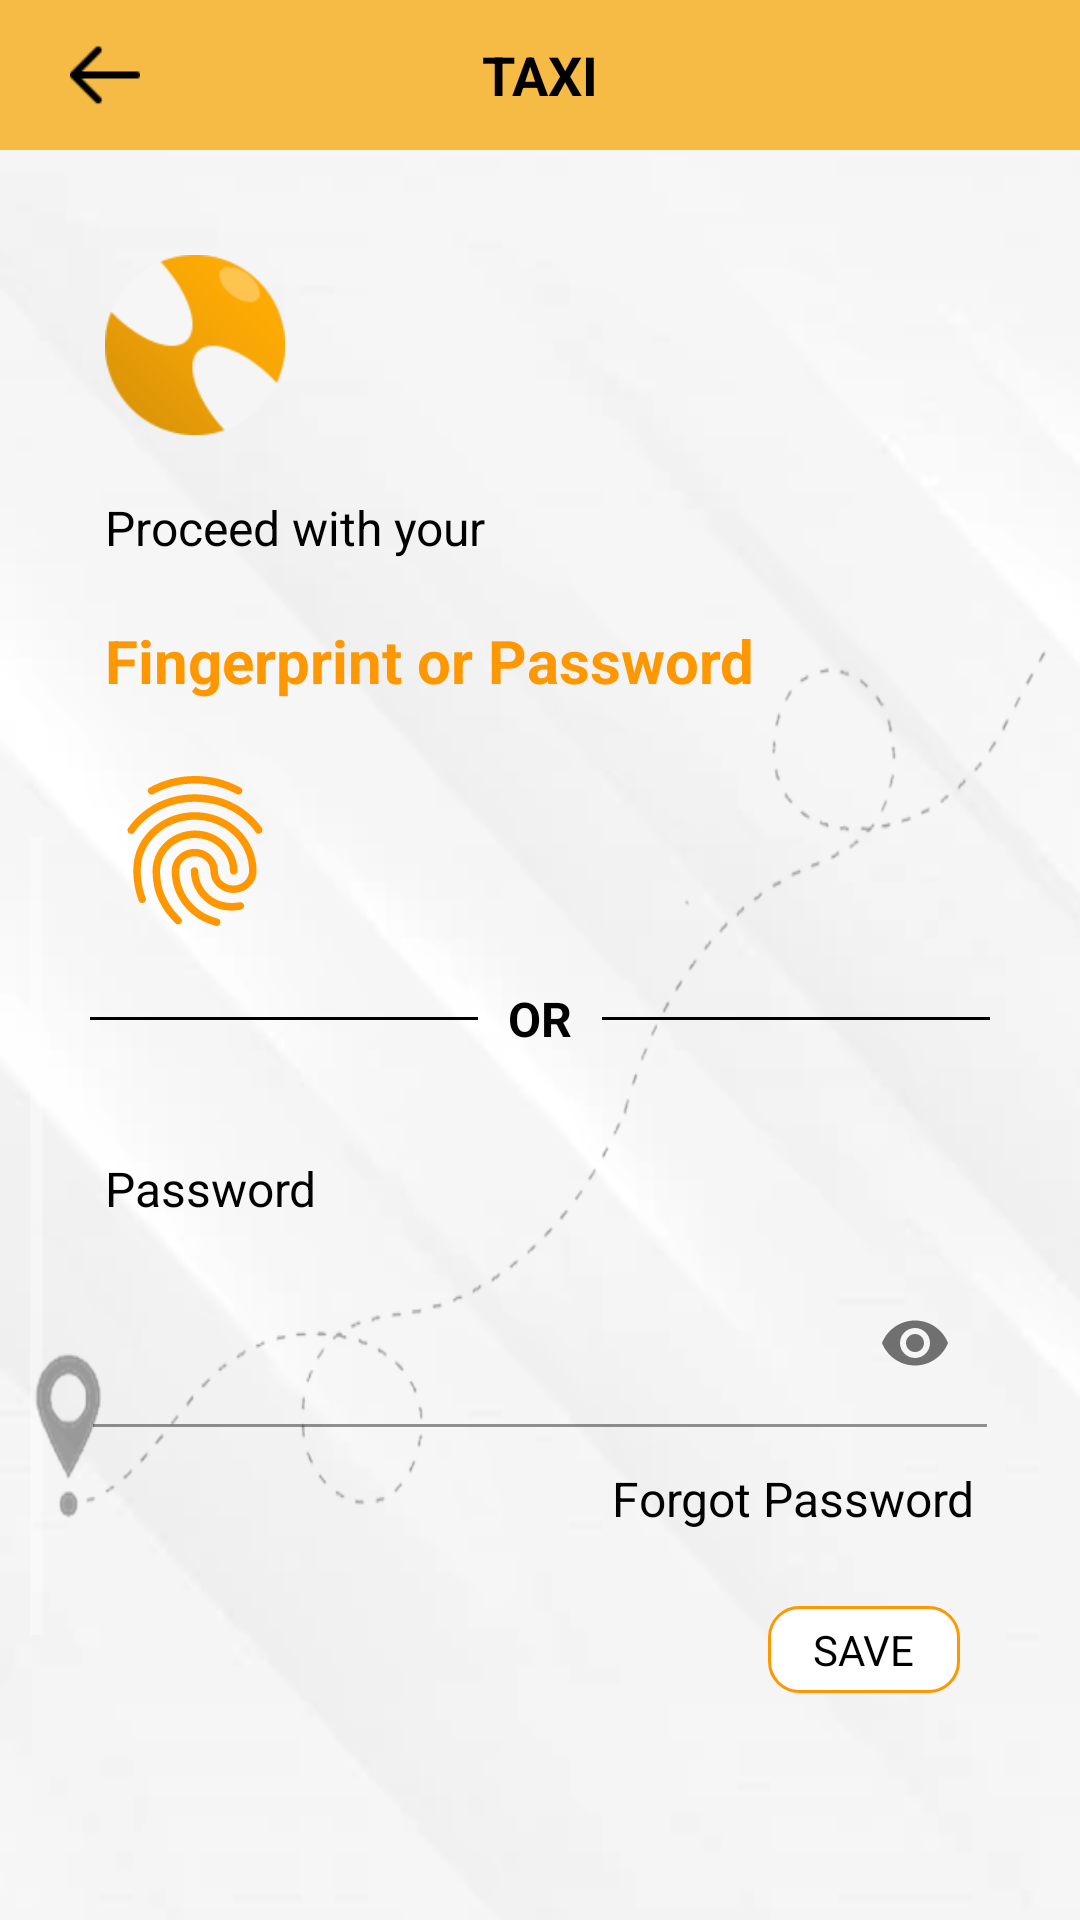

Point at icon controls on the screen. Image size 1080*1920, points as [x,y].
back: [105,75]
